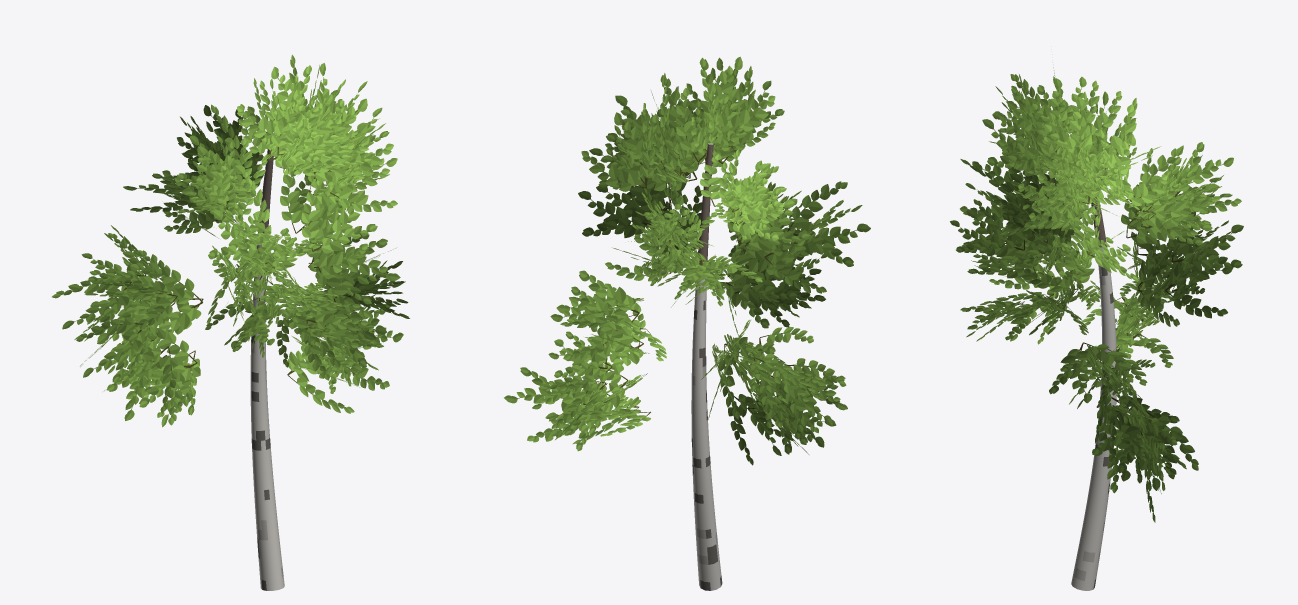
File: birch_1_mid.glb
The picture shows the model from 3 angles, left to right: view 1: azimuth 30°, elevation 25°; view 2: azimuth 150°, elevation 25°; view 3: azimuth 270°, elevation 25°; orthographic projection. The views are drawn at different scales.
Parts seen in each view (by area): view 1: birch_1_mid; view 2: birch_1_mid; view 3: birch_1_mid.
Boxes of the visible parts, <box> form: birch_1_mid: <box>52,54,409,590</box>; birch_1_mid: <box>504,56,870,590</box>; birch_1_mid: <box>950,67,1243,590</box>.
Bounding box in the file's own units: 7.49 × 10.46 × 5.98.
Materials: 5 (1 with a texture image).
